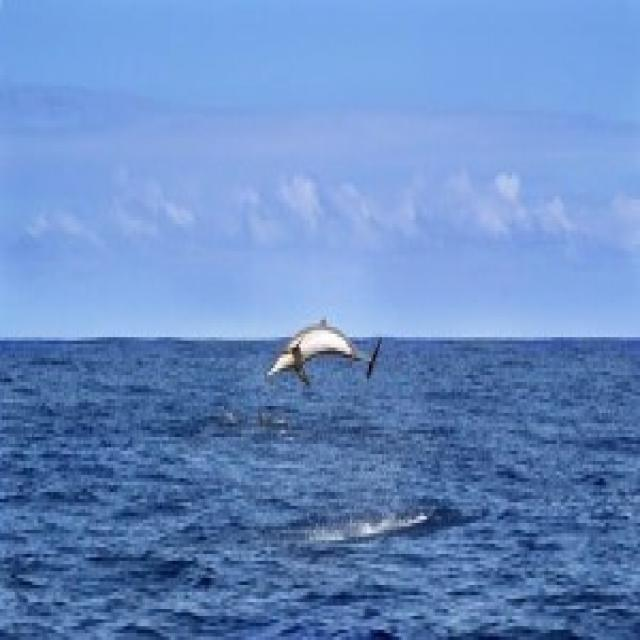Dolphin: (262, 328, 402, 386)
